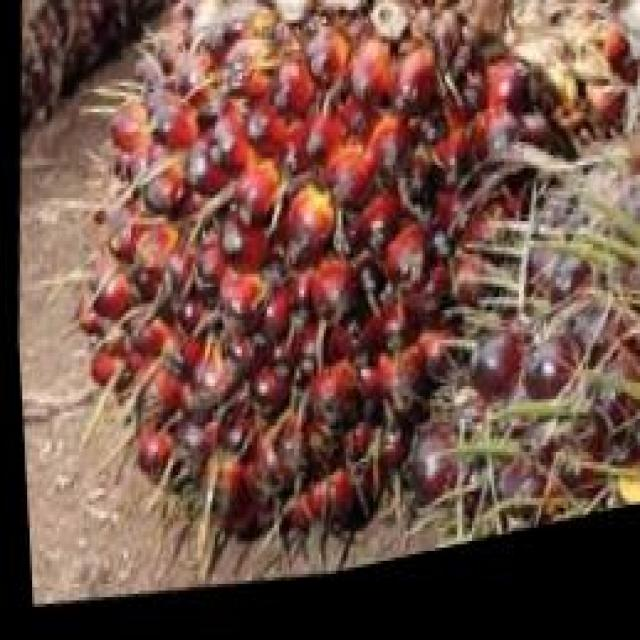Ripefruit: (39, 0, 640, 633)
